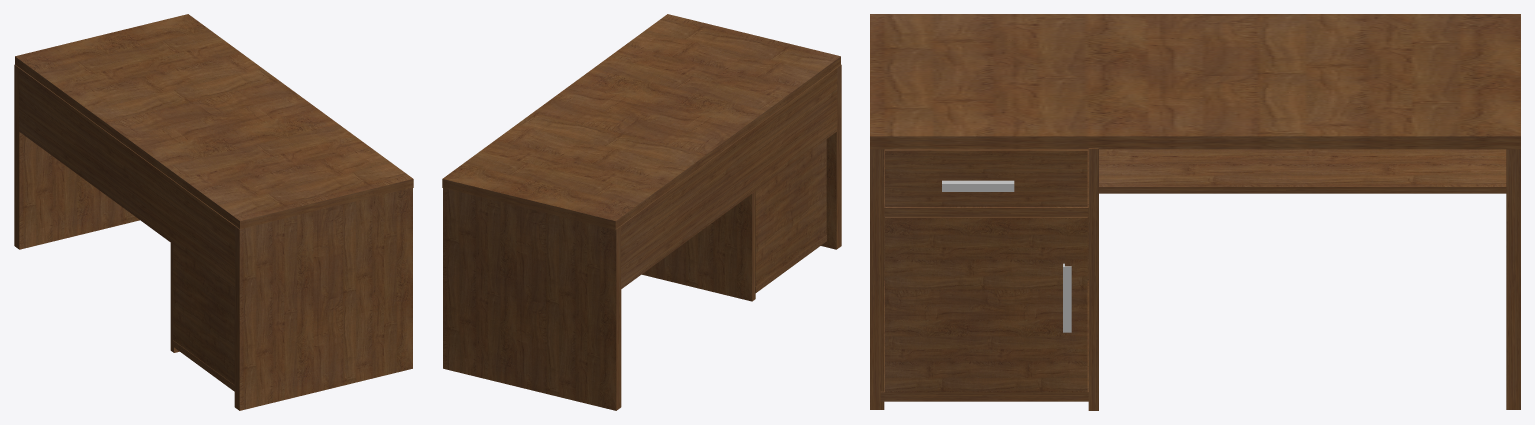
File: desk_d.glb
3 views of the same model, side by side, from view 1: azimuth 30°, elevation 25°; view 2: azimuth 150°, elevation 25°; view 3: azimuth 270°, elevation 25° (orthographic). The views are drawn at different scales.
Parts seen in each view (by area): view 1: Cube.001, Cube, Cube.003, Cube.002, Cube.007, Cube.005, Cube.004; view 2: Cube.001, Cube.002, Cube.003, Cube.007, Cube.004, Cube, Cube.005; view 3: Cube.001, Cube.009, Cube.008, Cube.010, Cube.002, Cube, Cube.004, Cube.006, Cube.005, Cube.012, Cube.011.
Part boxes in pixels (left/top/right/bottom): Cube.001: left=15, top=14, right=413, bottom=229; Cube: left=234, top=187, right=412, bottom=410; Cube.003: left=19, top=68, right=235, bottom=289; Cube.002: left=14, top=64, right=139, bottom=249; Cube.007: left=173, top=245, right=234, bottom=384; Cube.005: left=173, top=340, right=234, bottom=391; Cube.004: left=170, top=243, right=179, bottom=352; Cube.001: left=442, top=14, right=840, bottom=230; Cube.002: left=443, top=188, right=621, bottom=410; Cube.003: left=621, top=67, right=837, bottom=289; Cube.007: left=755, top=139, right=826, bottom=286; Cube.004: left=642, top=191, right=755, bottom=301; Cube: left=821, top=64, right=841, bottom=249; Cube.005: left=755, top=235, right=826, bottom=293; Cube.001: left=870, top=14, right=1520, bottom=149; Cube.009: left=885, top=217, right=1087, bottom=392; Cube.008: left=1099, top=149, right=1506, bottom=193; Cube.010: left=885, top=149, right=1087, bottom=206; Cube.002: left=1506, top=149, right=1520, bottom=409; Cube: left=870, top=149, right=884, bottom=409; Cube.004: left=1088, top=148, right=1098, bottom=410; Cube.006: left=884, top=149, right=1088, bottom=217; Cube.005: left=880, top=280, right=1088, bottom=401; Cube.012: left=942, top=180, right=1014, bottom=191; Cube.011: left=1063, top=263, right=1071, bottom=332.
Bounding box in the file's own units: 4.13 × 4.18 × 9.
2 materials, 1 textured.
